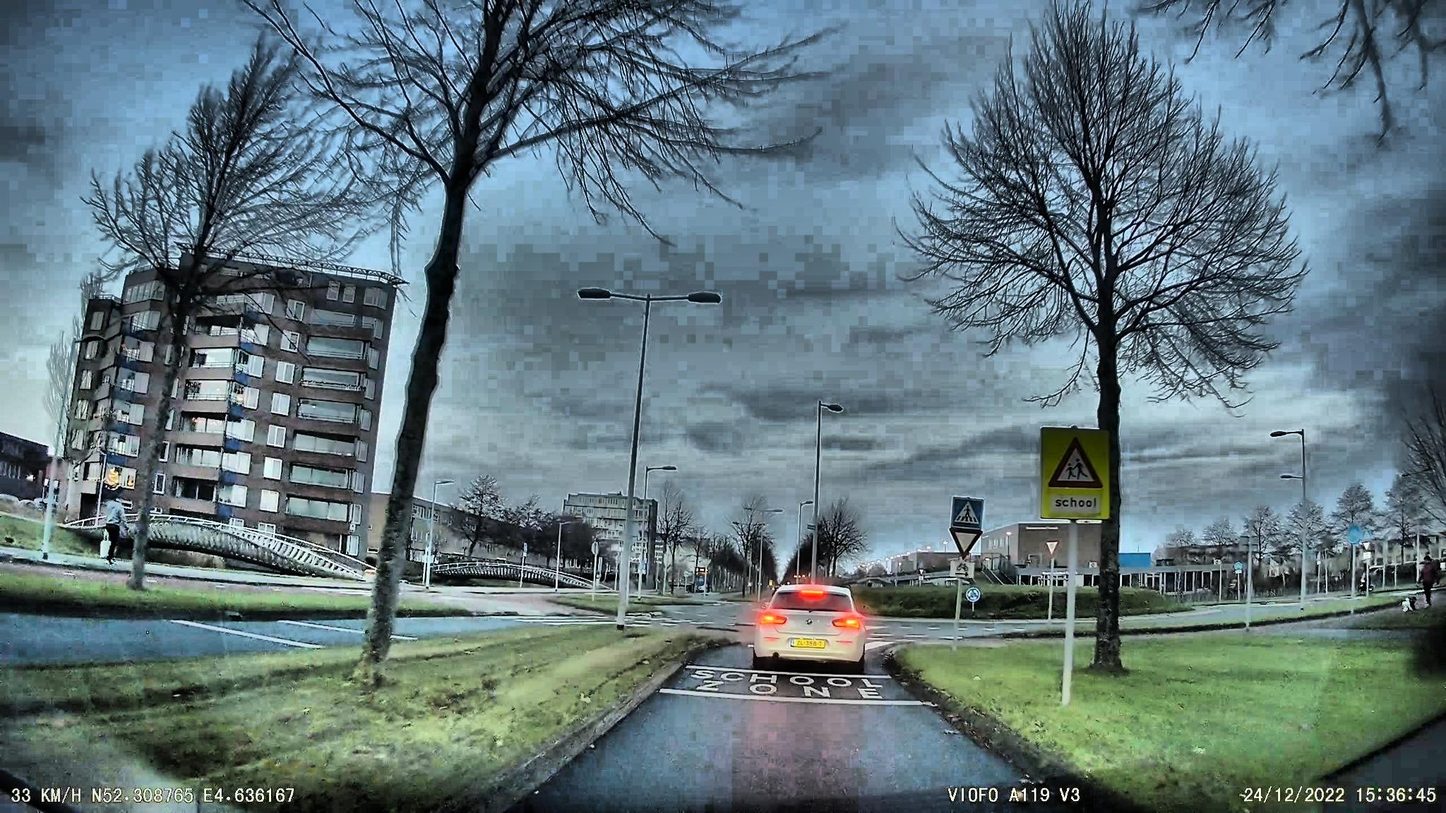Roads: (510, 653, 1086, 813)
